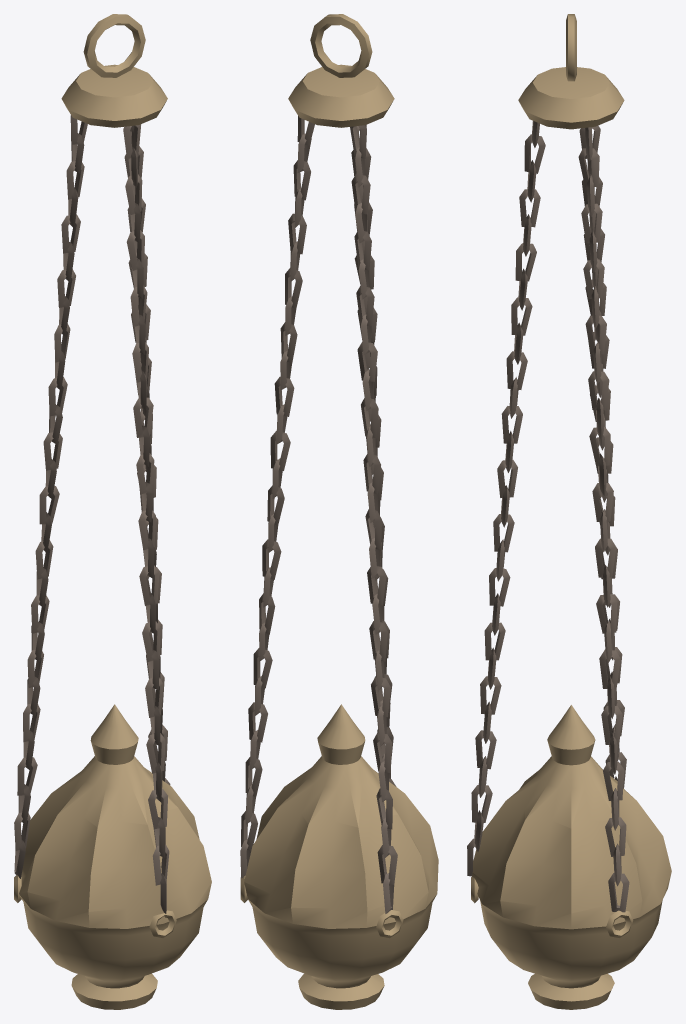
Rendered from censer.glb.
3 views of the same model, side by side, from view 1: azimuth 30°, elevation 25°; view 2: azimuth 150°, elevation 25°; view 3: azimuth 270°, elevation 25° (orthographic).
Visible parts, largest first — view 1: censer; view 2: censer; view 3: censer.
Part boxes in pixels (bbox=[...]): censer: bbox=[14, 14, 211, 1009]; censer: bbox=[240, 14, 438, 1009]; censer: bbox=[467, 14, 671, 1009].
Bounding box in the file's own units: 0.208 × 1.12 × 0.2118.
